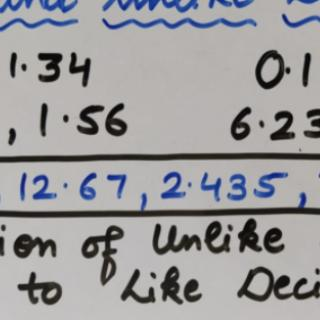.: (256, 115, 266, 130), (61, 114, 71, 125), (20, 60, 28, 72)
0: (251, 48, 286, 91)
1: (300, 48, 313, 89), (8, 49, 19, 81)
2: (269, 108, 297, 142), (159, 168, 187, 201), (31, 172, 59, 201)
3: (33, 49, 62, 85), (225, 171, 249, 202)
4: (66, 50, 95, 88), (199, 170, 223, 204)
5: (251, 169, 289, 200), (74, 102, 103, 137)
6: (226, 104, 254, 143), (104, 99, 128, 138), (76, 170, 99, 203)
